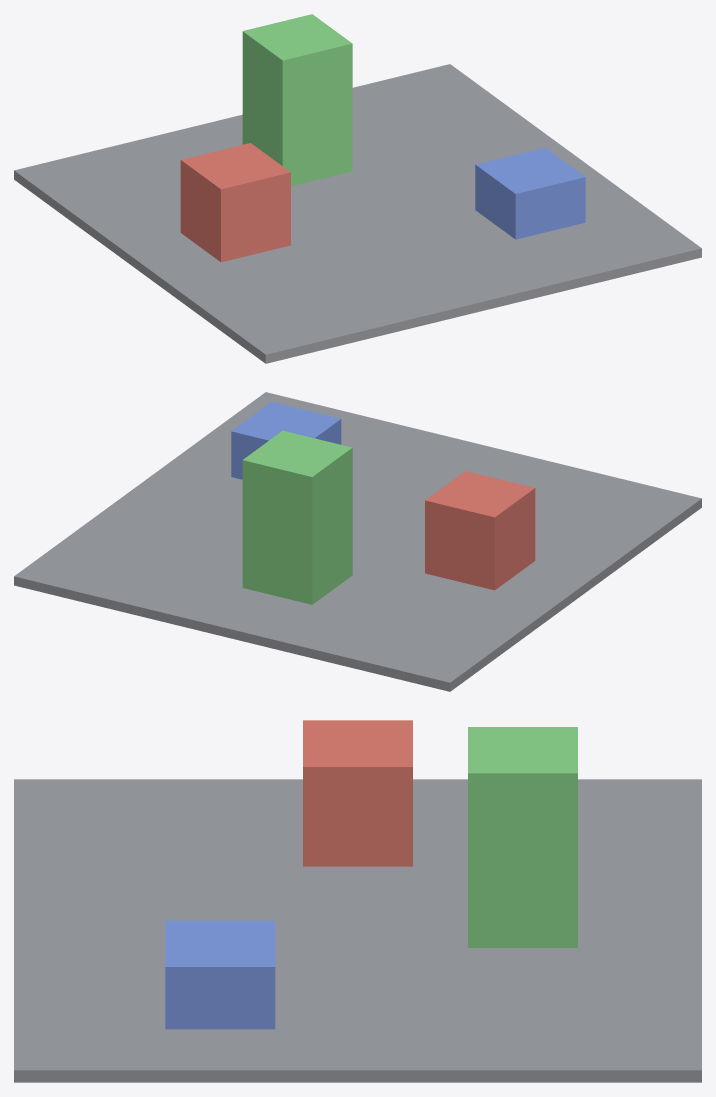
File: camera_rig.gltf
3 views of the same model, one above another, from view 1: azimuth 30°, elevation 25°; view 2: azimuth 150°, elevation 25°; view 3: azimuth 270°, elevation 25° (orthographic). The views are drawn at different scales.
Visible parts, largest first — view 1: Floor, GreenBox, RedBox, BlueBox; view 2: Floor, GreenBox, RedBox, BlueBox; view 3: Floor, GreenBox, RedBox, BlueBox.
Boxes of the visible parts, x1,y1,x2,y2 form: Floor: (14,64,701,363); GreenBox: (242,14,352,186); RedBox: (180,143,290,262); BlueBox: (475,147,585,239); Floor: (14,392,701,691); GreenBox: (242,430,352,604); RedBox: (425,471,535,590); BlueBox: (231,402,341,479); Floor: (14,779,701,1082); GreenBox: (468,727,577,947); RedBox: (303,720,412,866); BlueBox: (165,920,275,1029).
Size of the model in its own units: 5 by 1.5 by 5.
